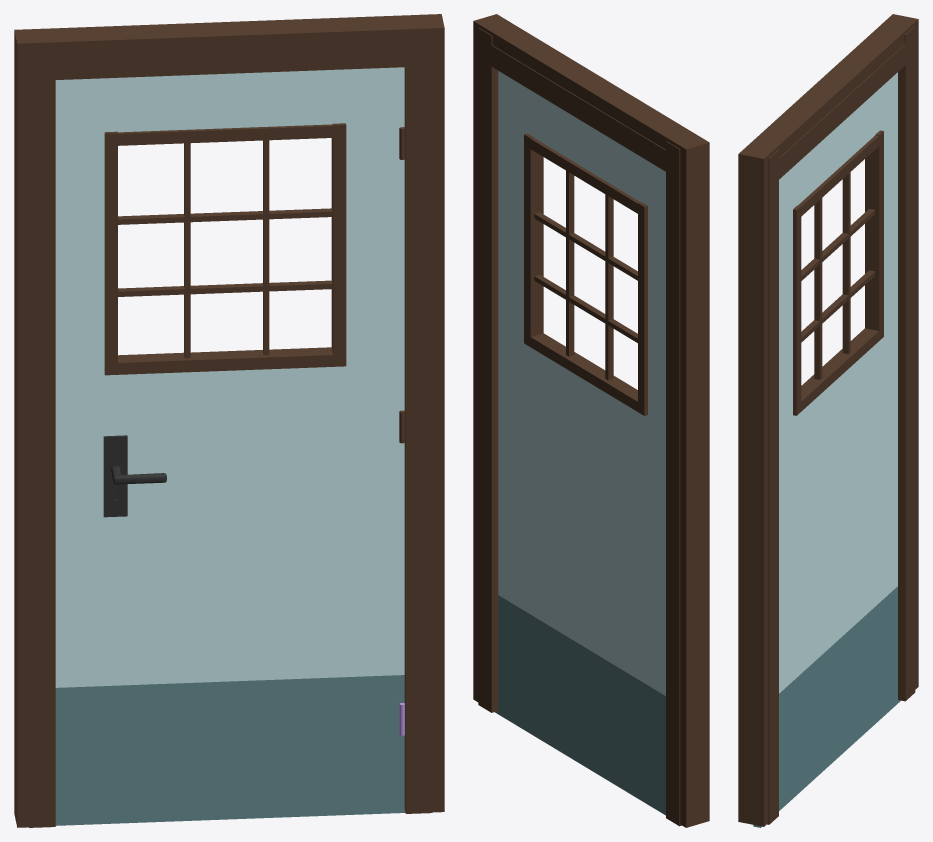
The model's file is Door.glb.
3 views of the same model, side by side, from view 1: azimuth 30°, elevation 25°; view 2: azimuth 150°, elevation 25°; view 3: azimuth 270°, elevation 25° (orthographic). The views are drawn at different scales.
Parts seen in each view (by area): view 1: node-0; view 2: node-0; view 3: node-0.
Boxes of the visible parts, x1,y1,x2,y2 form: node-0: (14,14,444,827); node-0: (473,14,709,827); node-0: (738,14,918,827).
Bounding box in the file's own units: 96.42 × 209 × 50.59.
